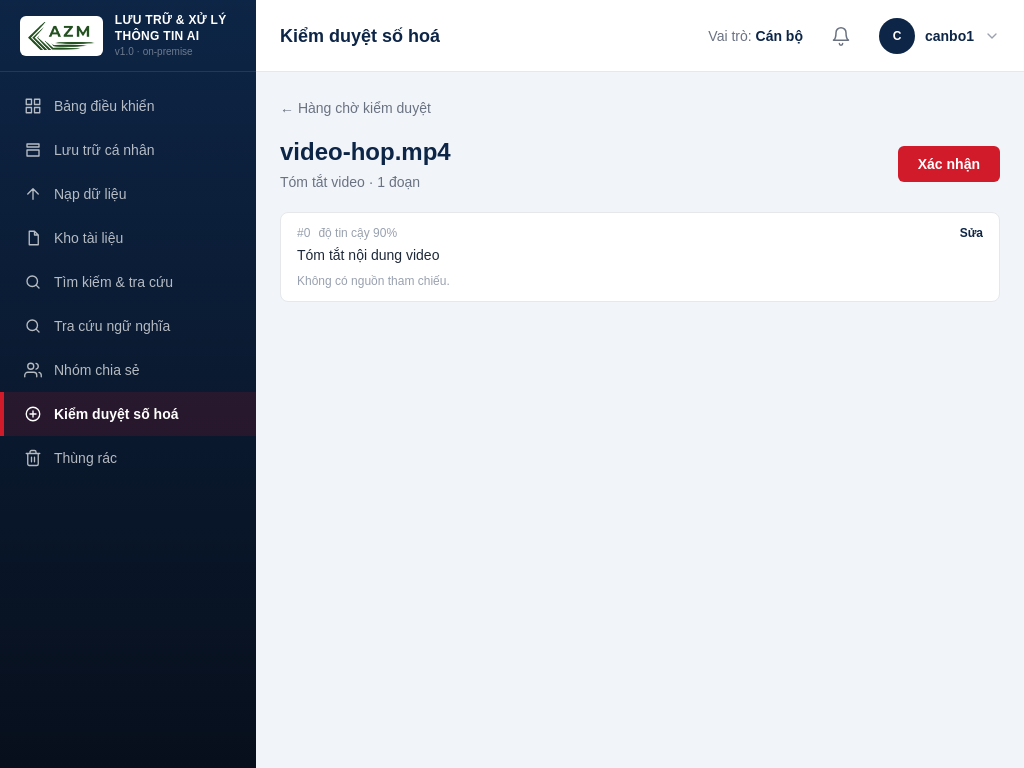
Test case: DigitizationRunDetailPage › confirms the run: asks via ConfirmProvider, POSTs /confirm, shows a message and redirects to the queue
Expected: the heading "video-hop.mp4" is shown, [280, 136, 451, 168]
What coordinates should you click on to do the following:
click the button "Xác nhận"
I would click on:
 (949, 164)
Its box is [898, 146, 1000, 182].
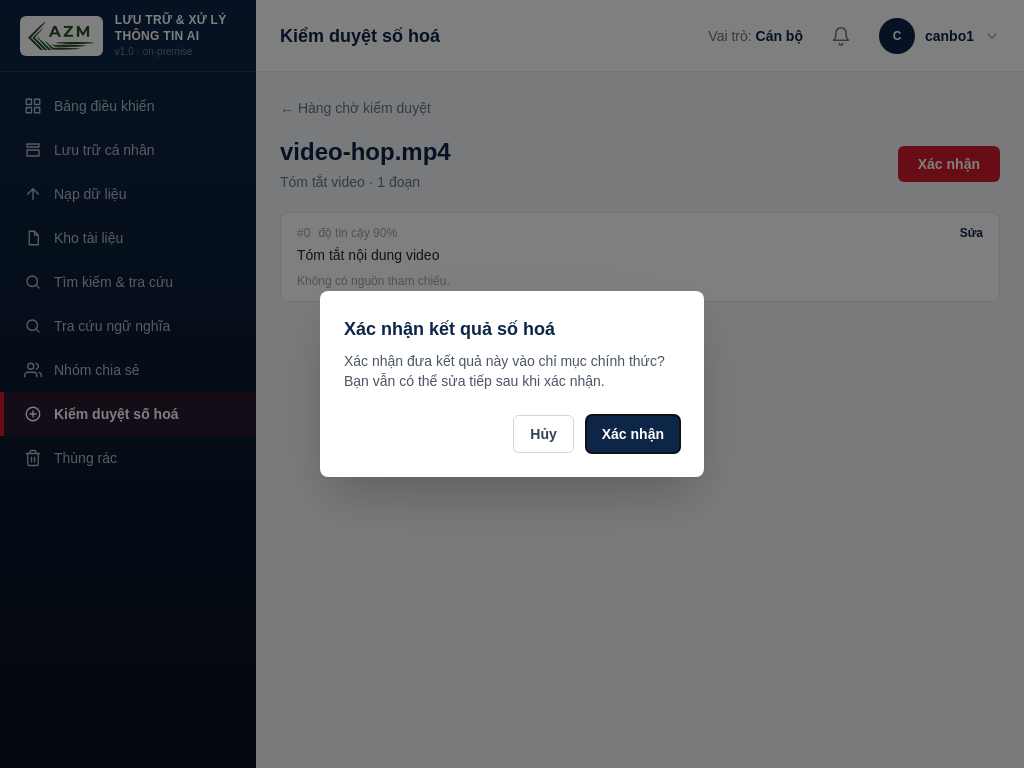
What coordinates should you click on to do the following:
click the button "Xác nhận"
I would click on:
 (633, 434)
Its box is [586, 415, 680, 453].
Wait 1600 ms
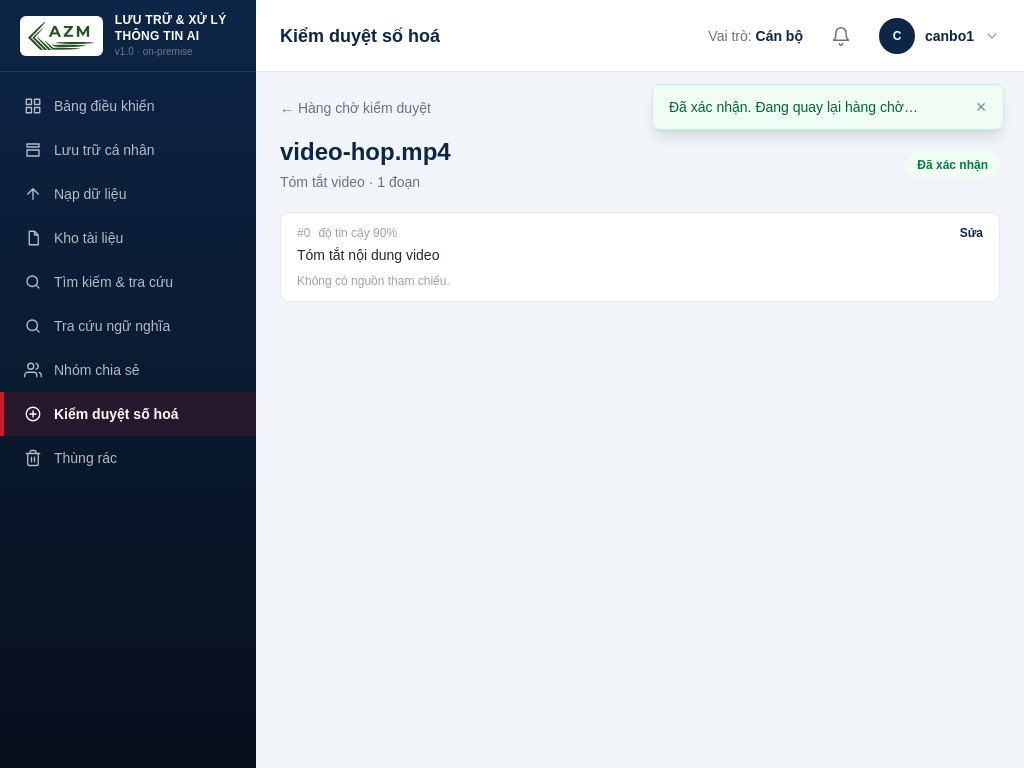
Result: the text "Đã xác nhận. Đang quay lại hàng chờ…" is shown at [669, 99, 918, 115]
